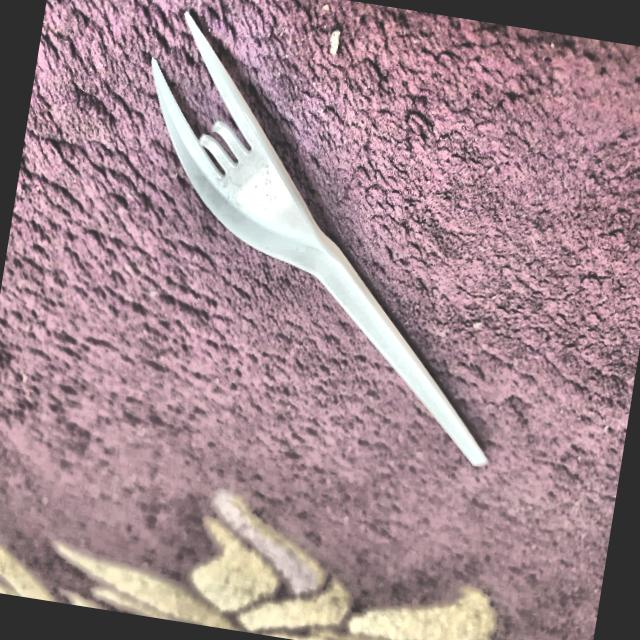plastic utensil: (92, 2, 557, 479)
